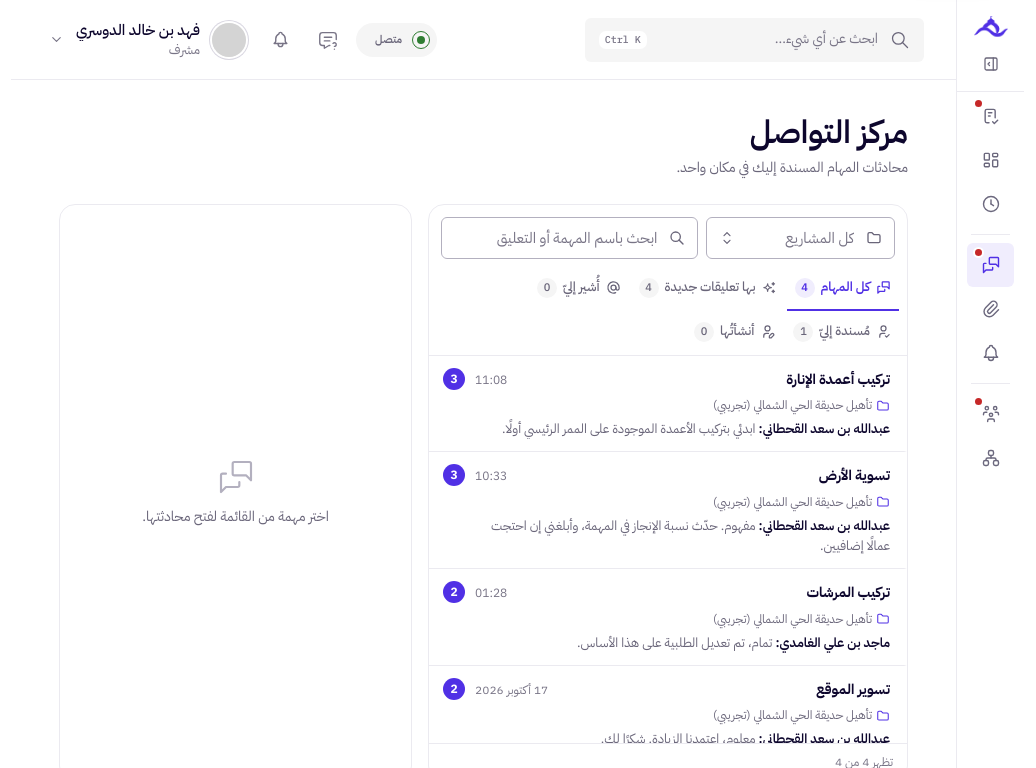
Test: communication hub /hub › lists threads with project, parent path and unread; the «new» tab filters; opening a chat marks it read
The image size is (1036, 768).
Expected: the heading "مركز التواصل" is shown, [750,108,908,156]
Expected: the button that starts with "تركيب أعمدة الإنارة" is shown, [429,356,907,452]
Click the tab "بها تعليقات جديدة 4": (708, 289) [631,267,785,311]
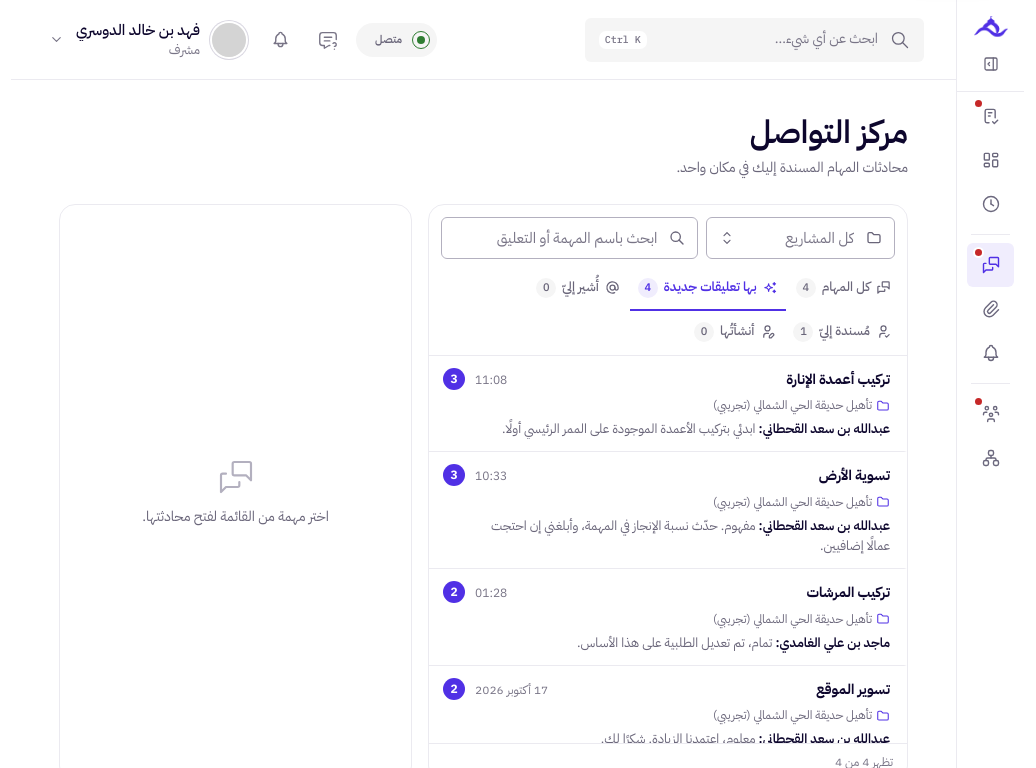
Click the button "تركيب أعمدة الإنارة": (838, 379) [429,356,907,452]
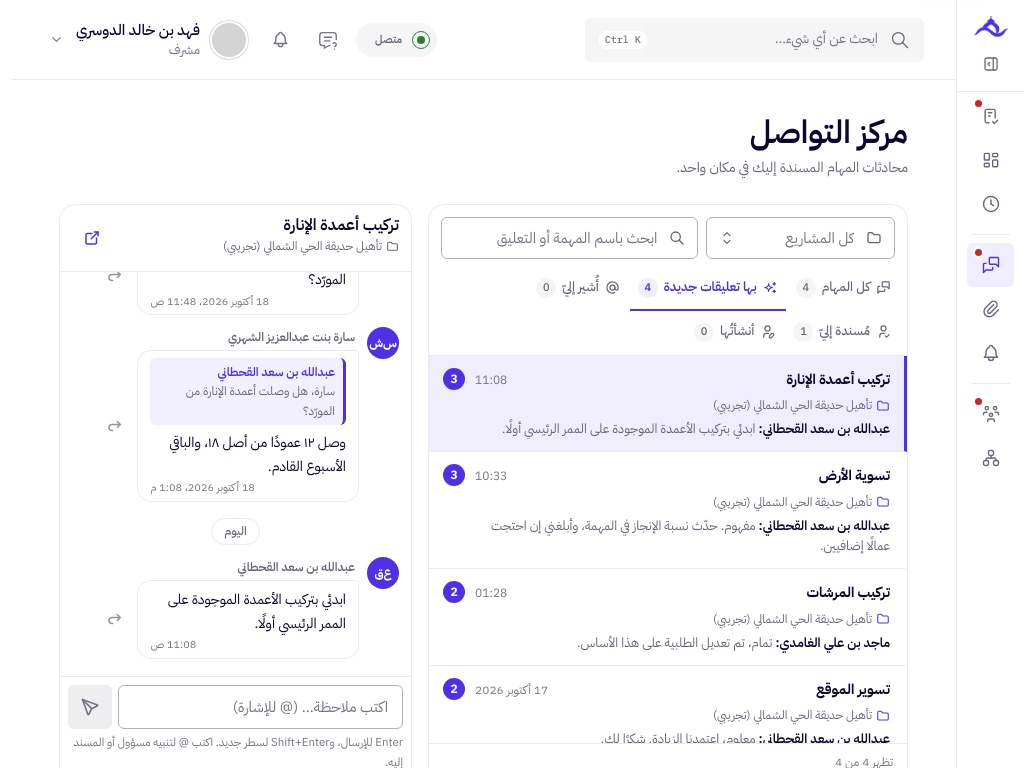
Expected: the element named "رسائل المهمة" is shown, [60,272,411,676]
